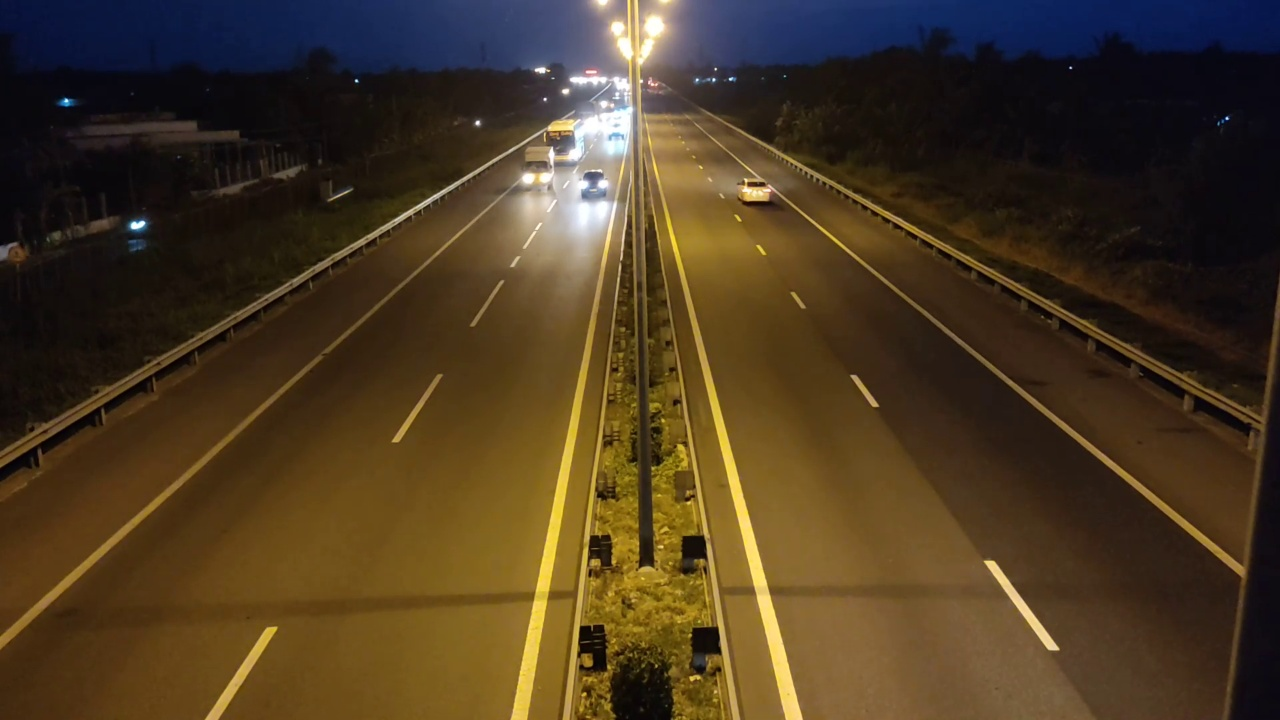car: (736, 178, 774, 205), (579, 170, 609, 199)
